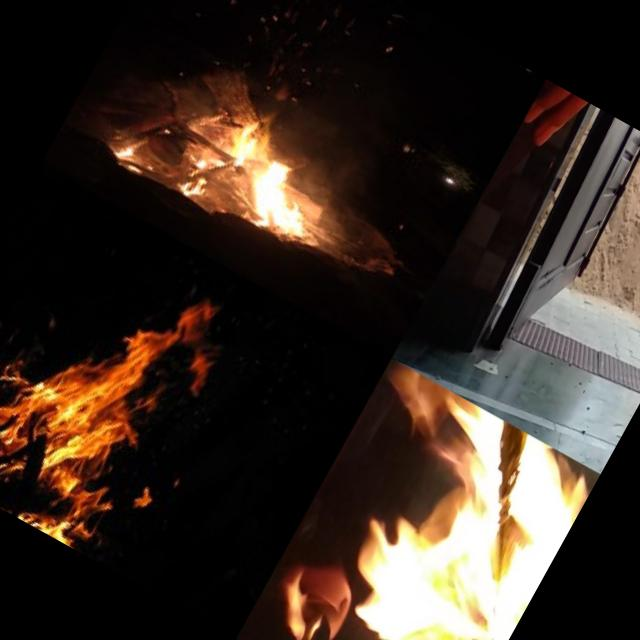fire: (236, 358, 600, 640), (0, 217, 247, 572), (110, 60, 353, 268)
